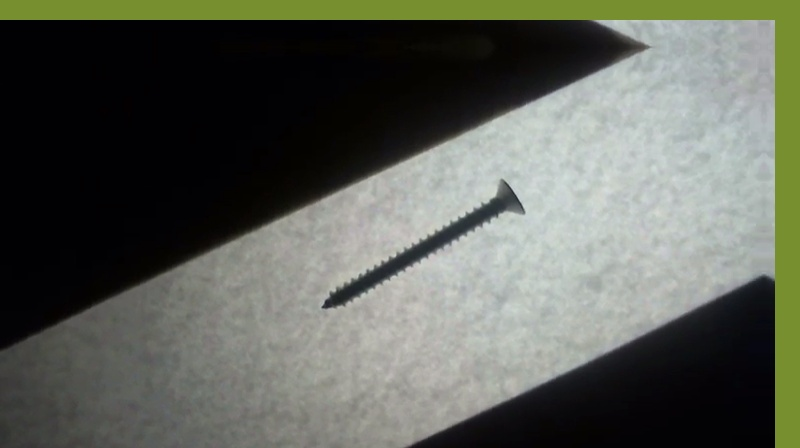S002: (318, 175, 530, 311)
